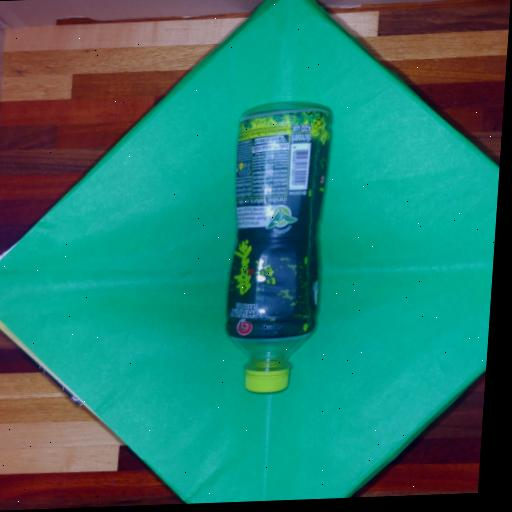bottle: (228, 106, 330, 391)
